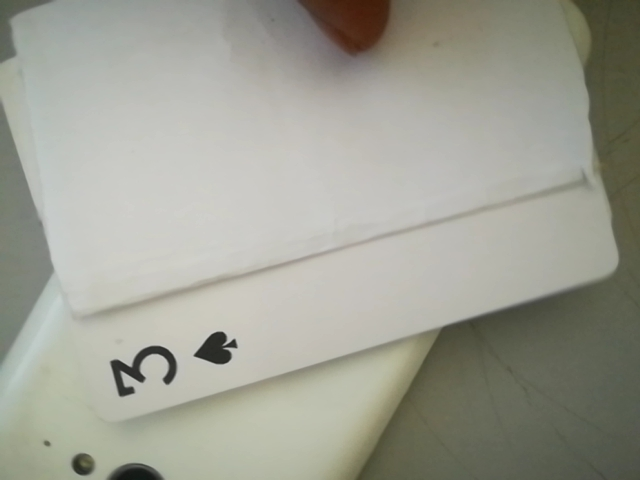ht 3: (89, 314, 256, 409)
